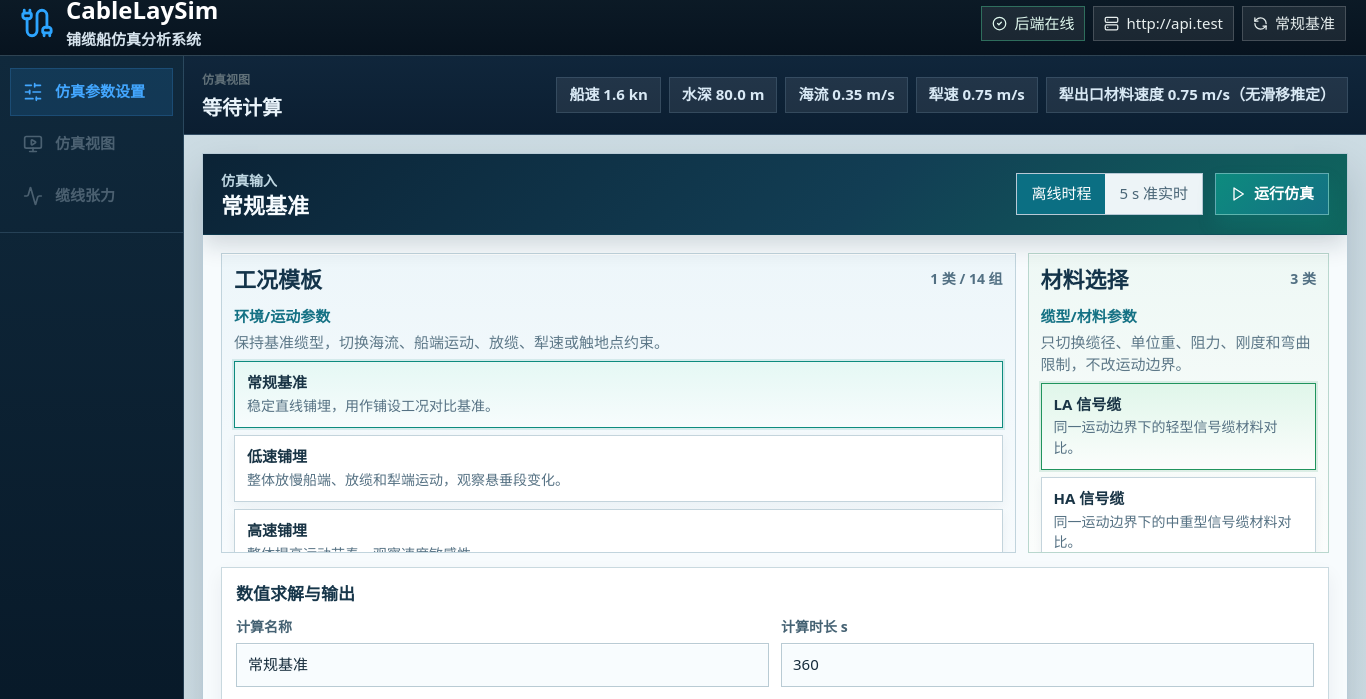
App › runs from the parameter panel, opens the simulation view, and exposes only cable tension analysis
Expected: the text "后端在线" is shown, [982,6,1086,41]
Expected: the text "三维仿真运动" is not shown
Click the button "运行仿真".
click(1272, 194)  # box [1215,173,1329,215]
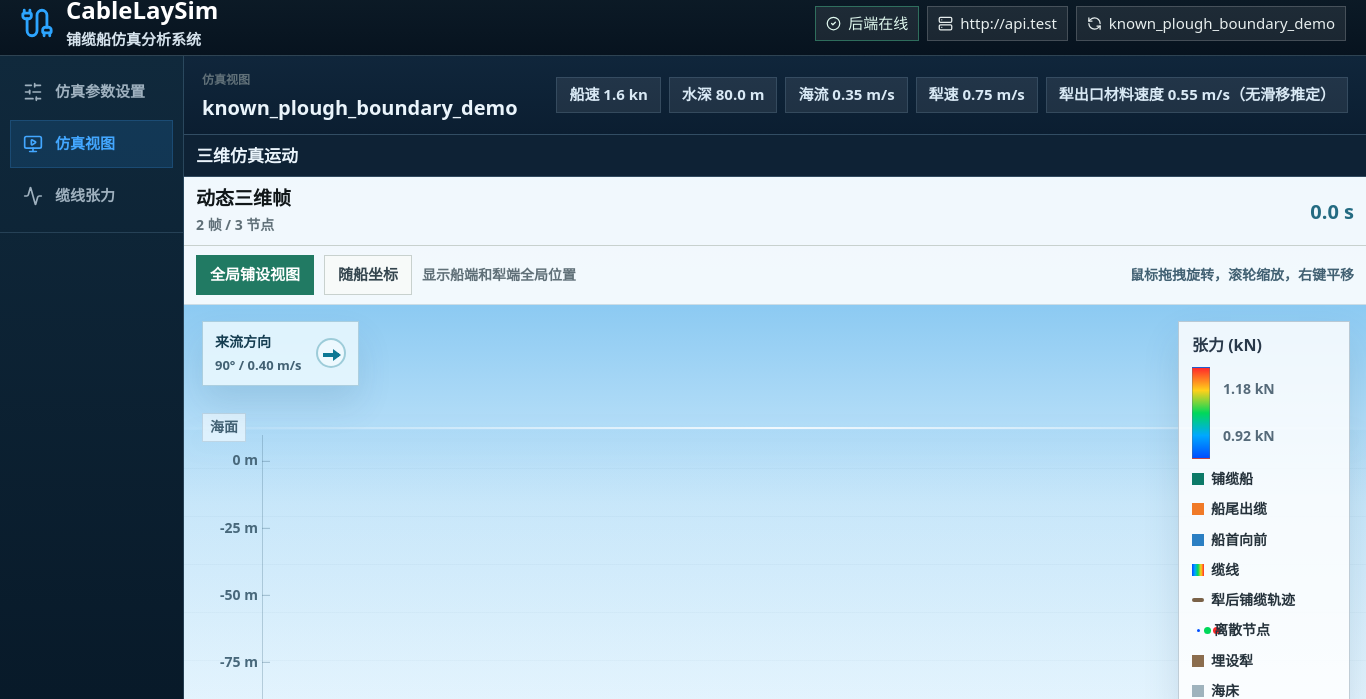
Expected: the heading "三维仿真运动" is shown, [196,145,298,166]
Expected: the text "铺缆船" is shown, [1192,469,1253,488]
Expected: the text "埋设犁" is shown, [1192,651,1253,670]
Click the button "仿真参数设置".
click(92, 92)  # box [10,68,173,116]
(page scrolled)
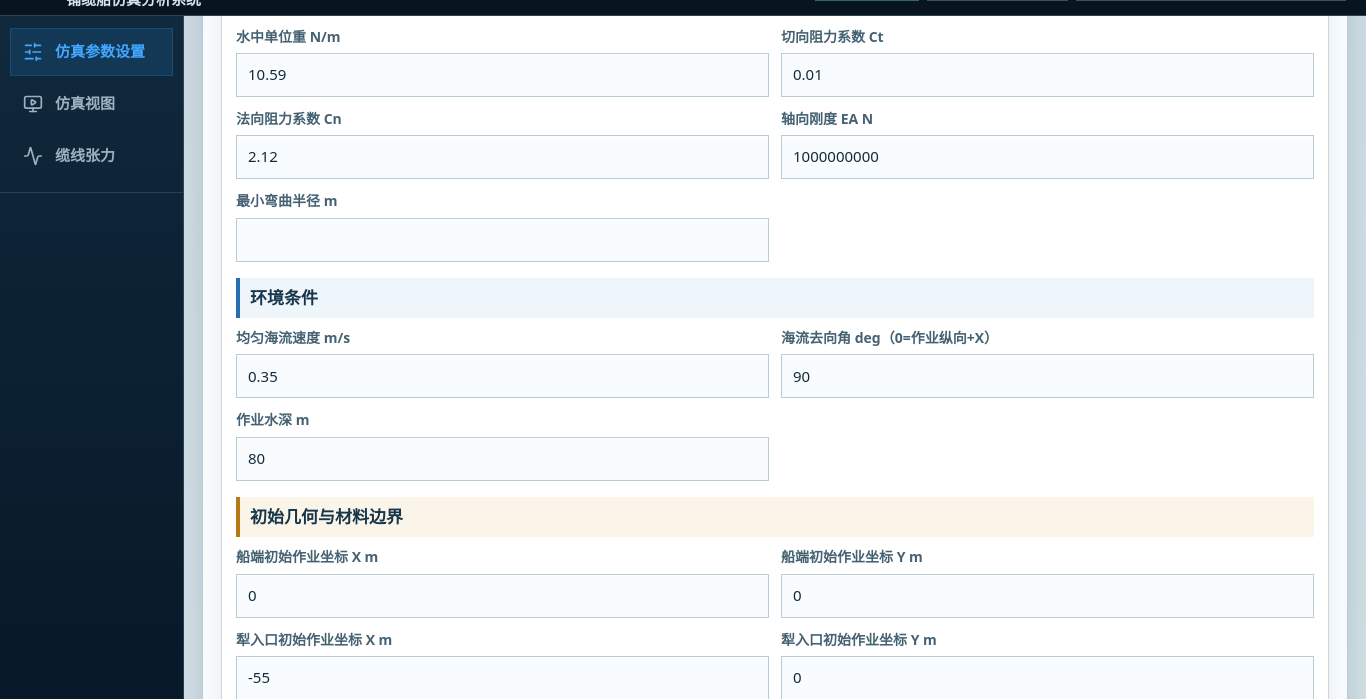
Expected: the number field labelled "均匀海流速度 m/s" is shown, [236,354,769,398]
Expected: the heading "三维仿真运动" is gone
